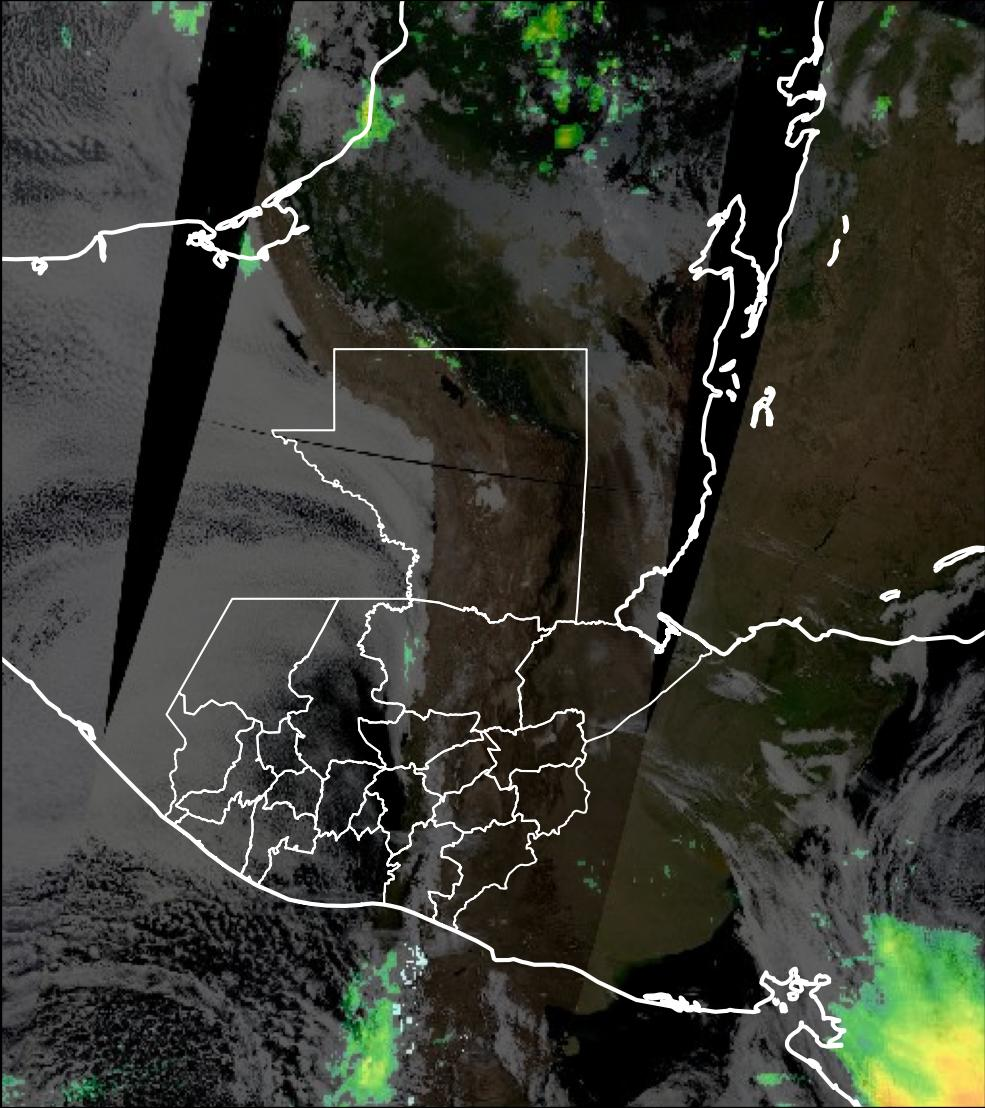precipitacion: (875, 1030, 985, 1108)
